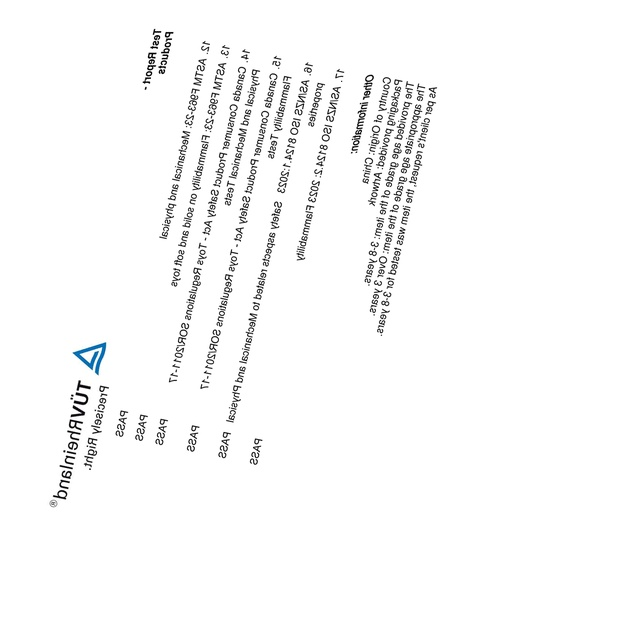tuv_rheinland: (48, 338, 110, 511)
